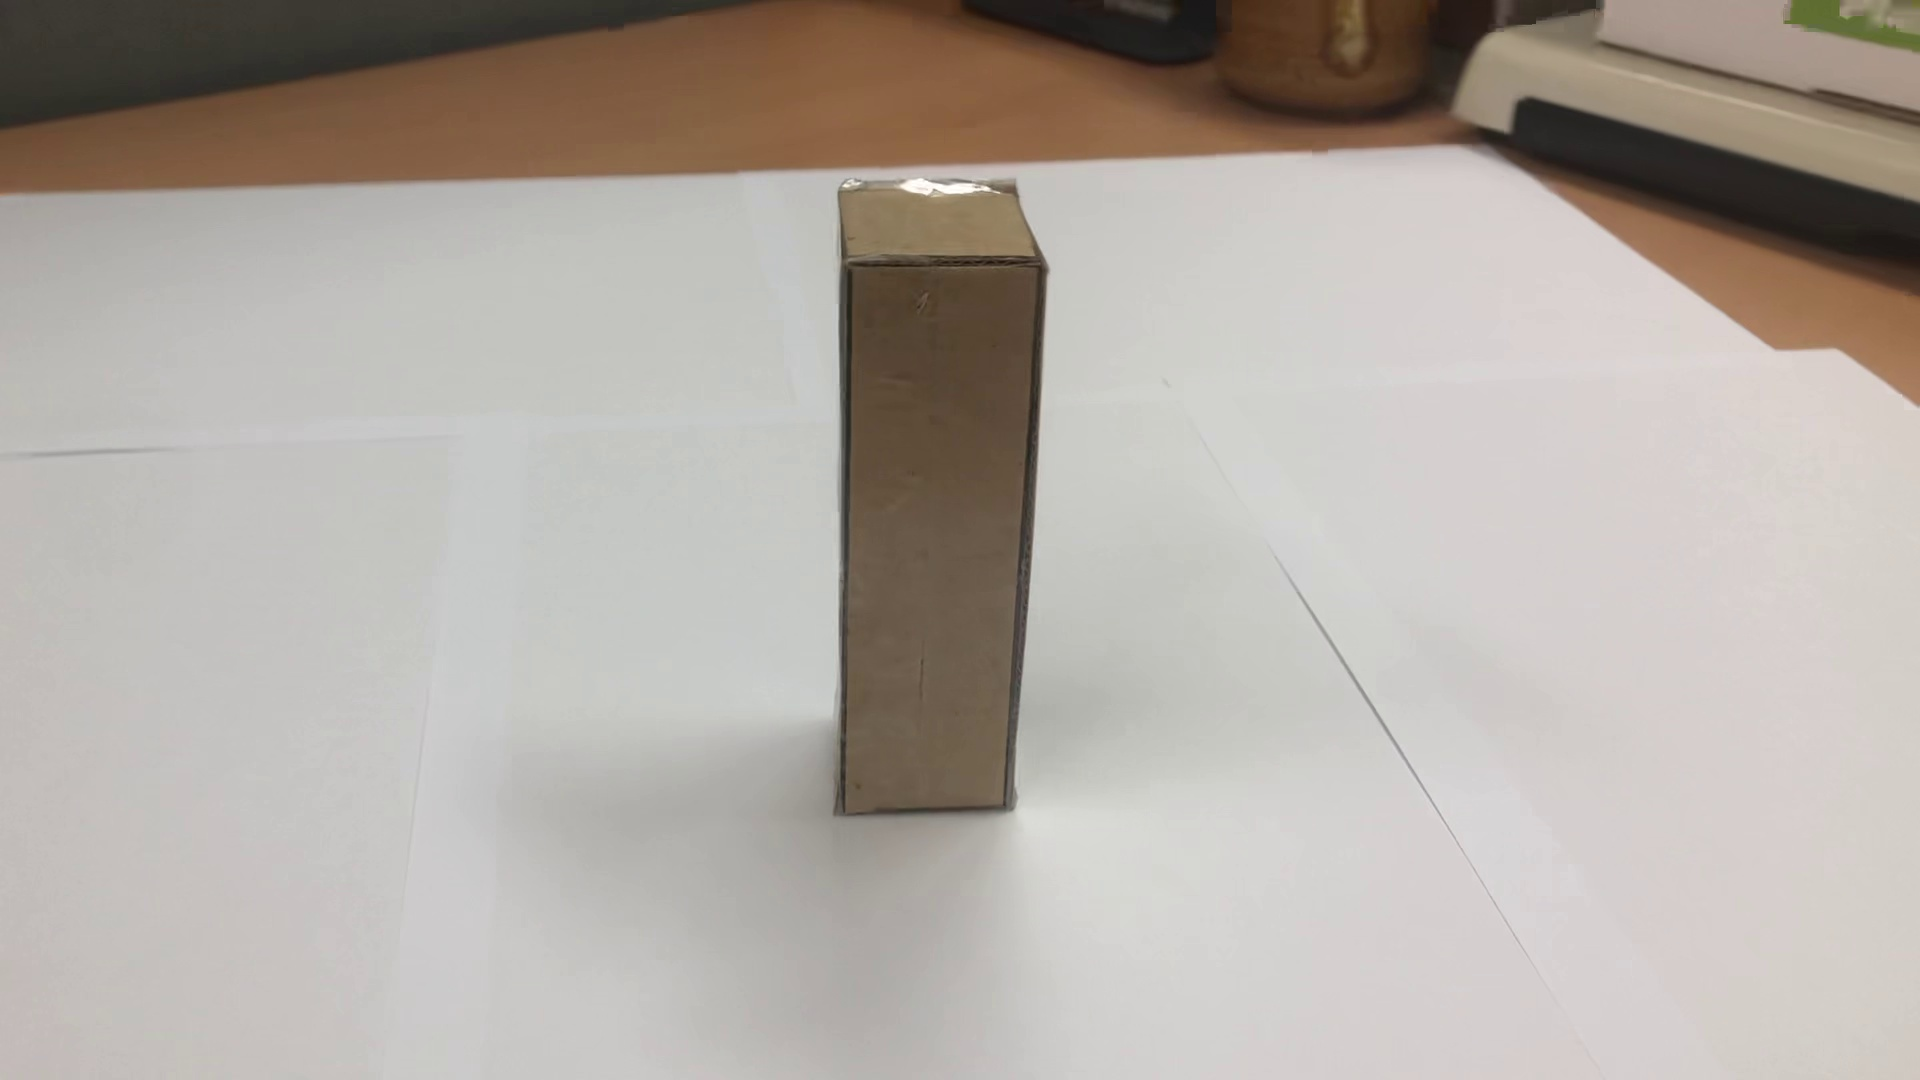box: (814, 177, 1076, 835)
